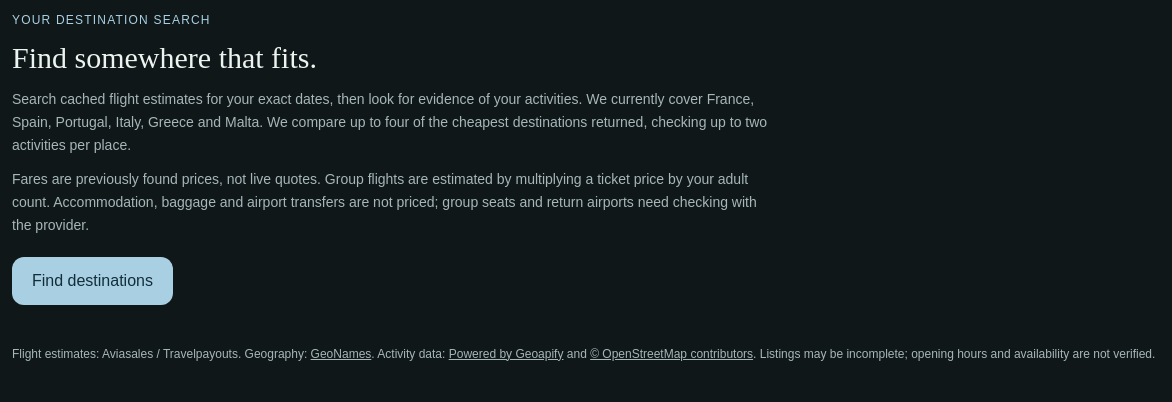
Test: waits for an explicit search and explains an empty cache without claiming no flights exist
Click the button "Find destinations".
click(92, 280)  # box [12,256,173,304]
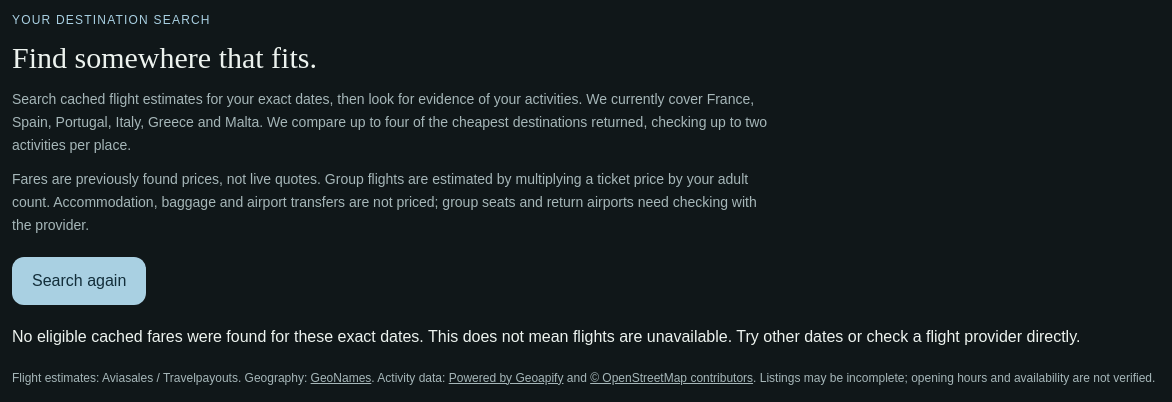
Result: the message shows "This does not mean flights are unavailable" at [12,328,1080,344]
